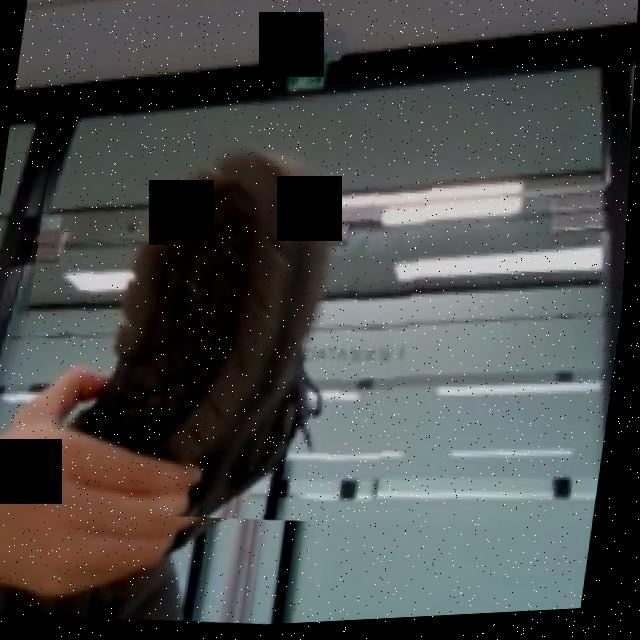shoe: (5, 72, 451, 545)
